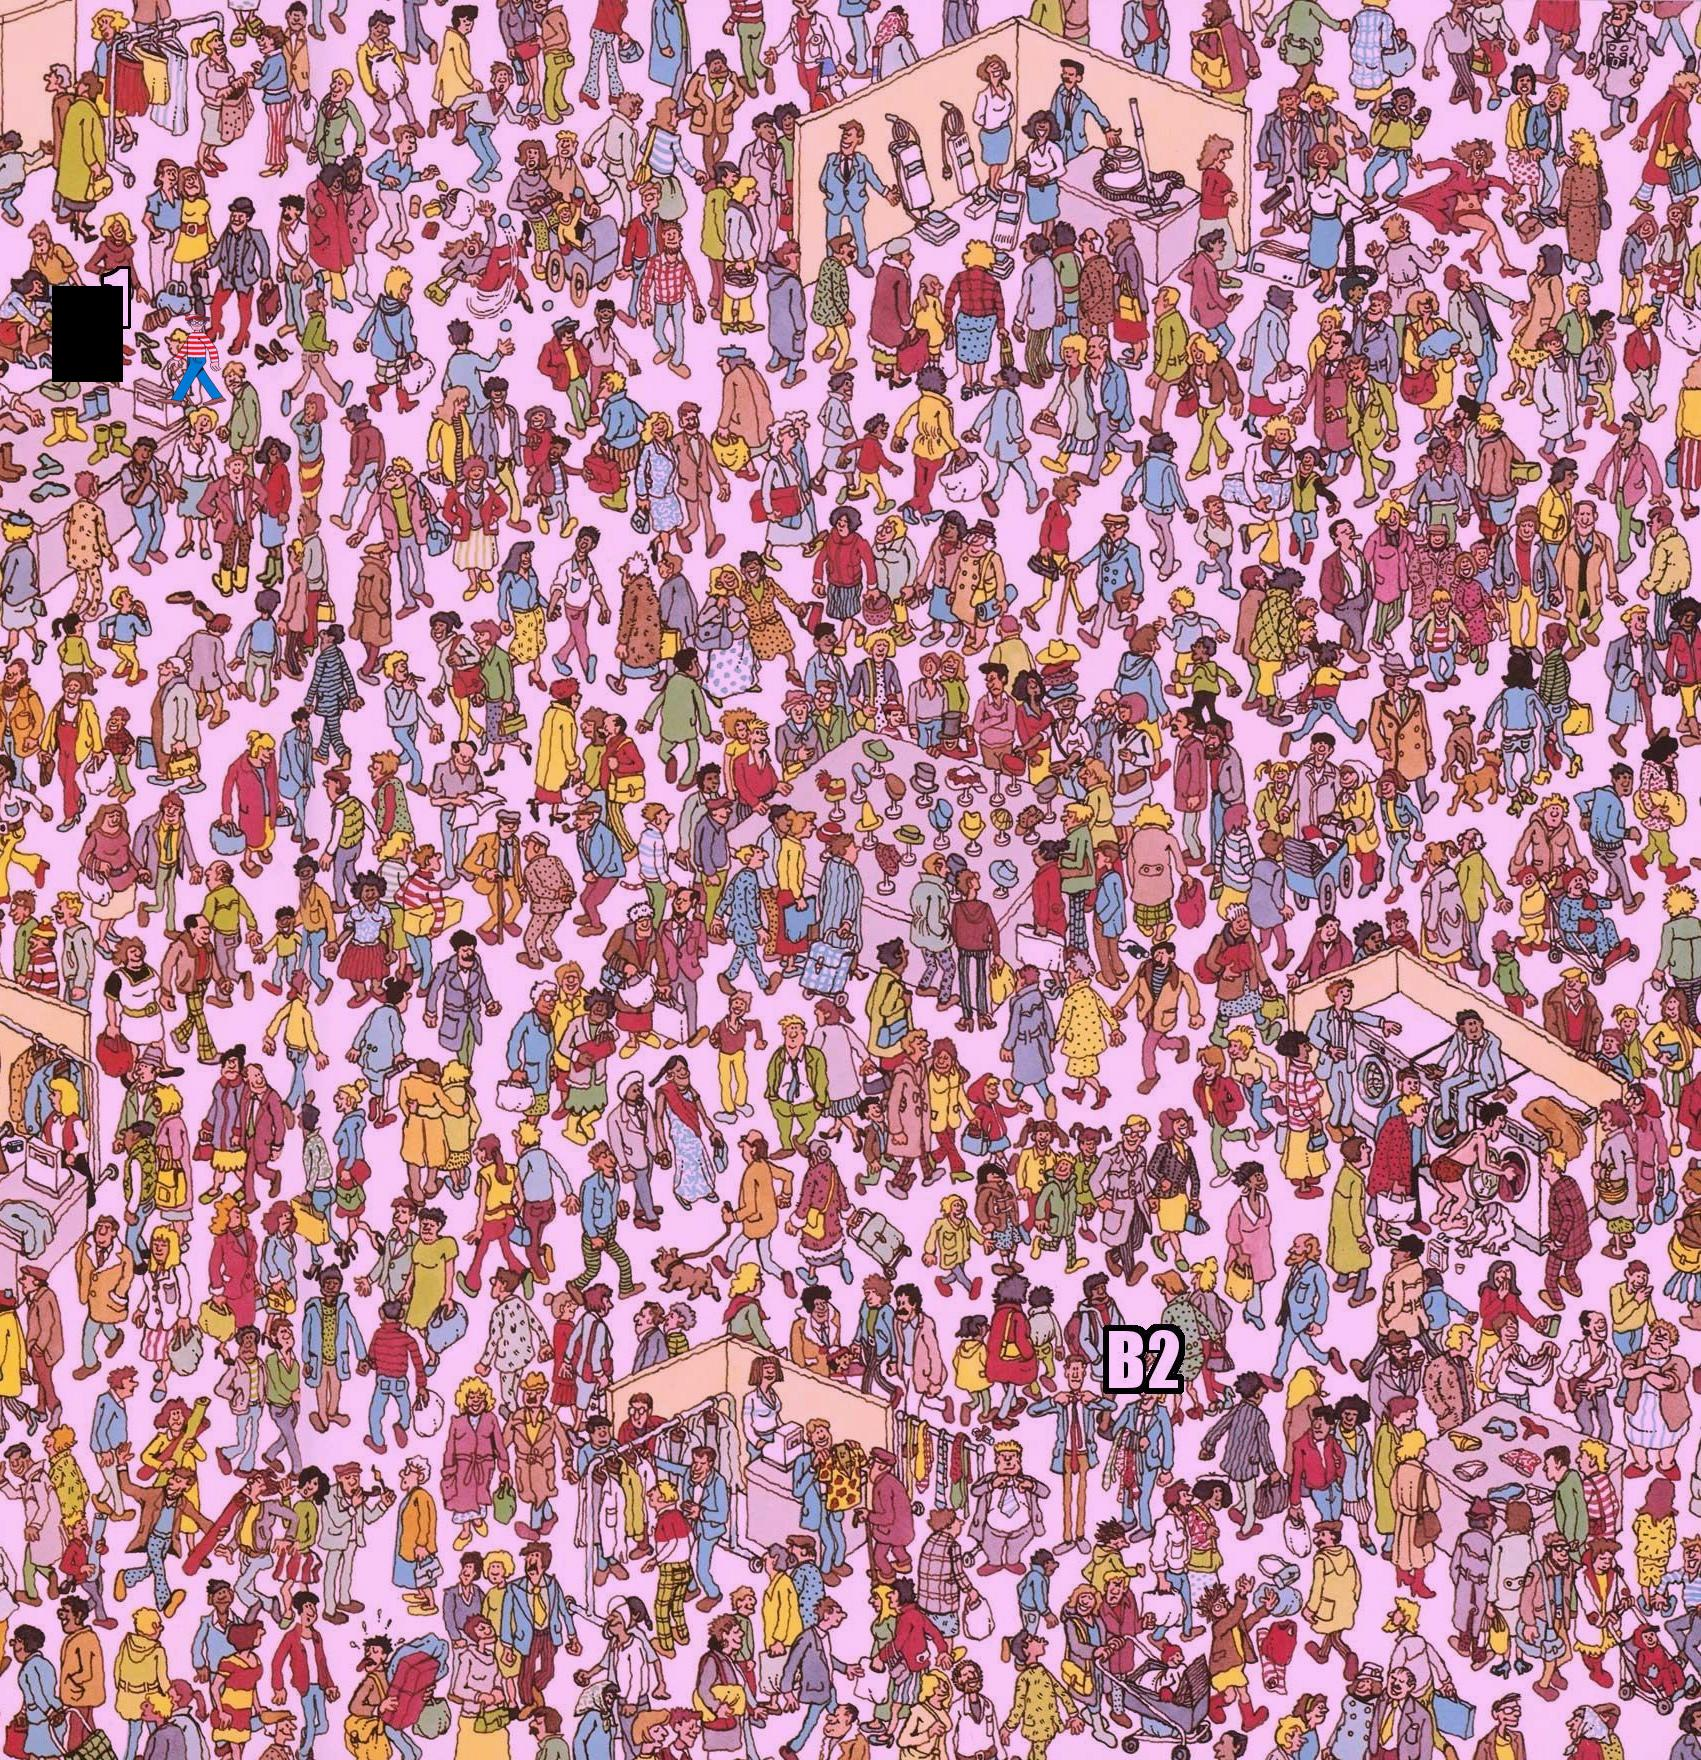waldos: (157, 313, 228, 409)
